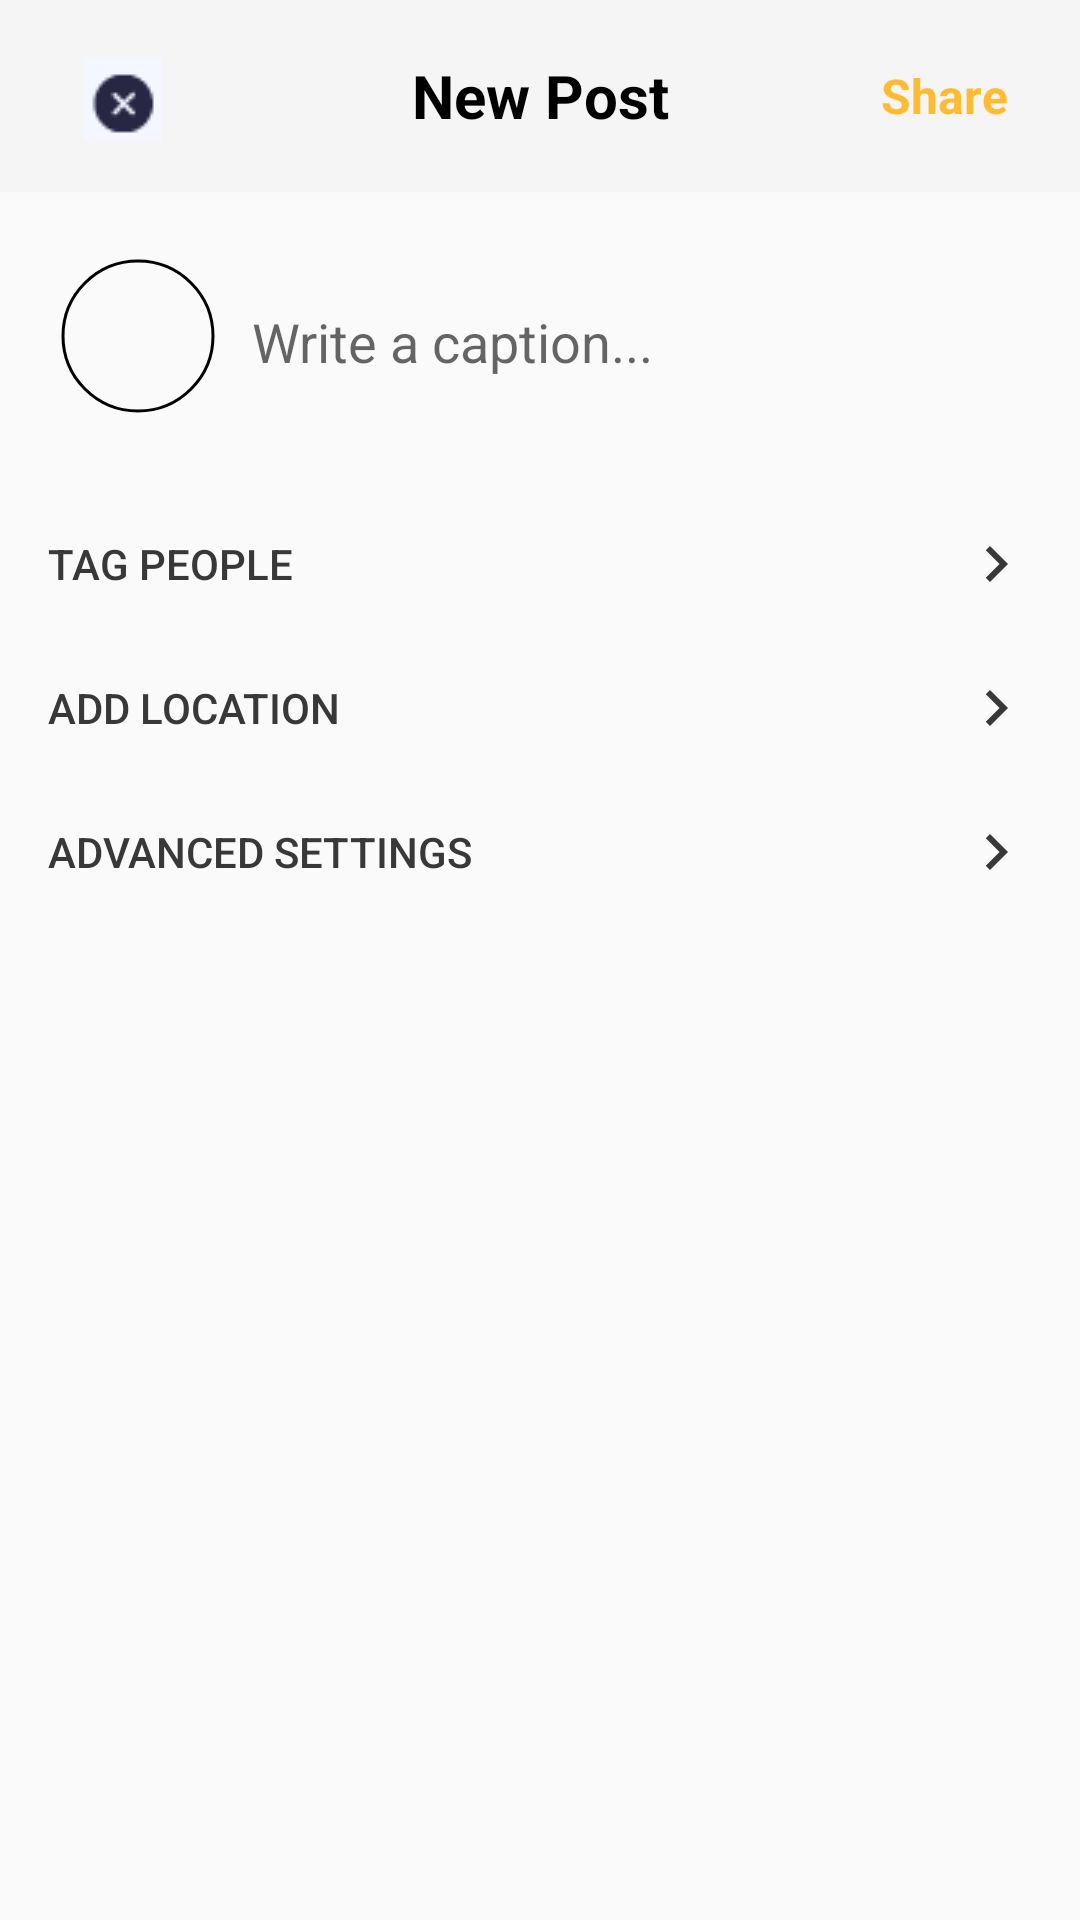

Screen size 1080 × 1920. Icon name, then its box in pixels as [left=x1, top=y1, right=x2, bottom=y2]:
X ImageButton in login page that leads back to previous page: [left=92, top=74, right=154, bottom=133]
